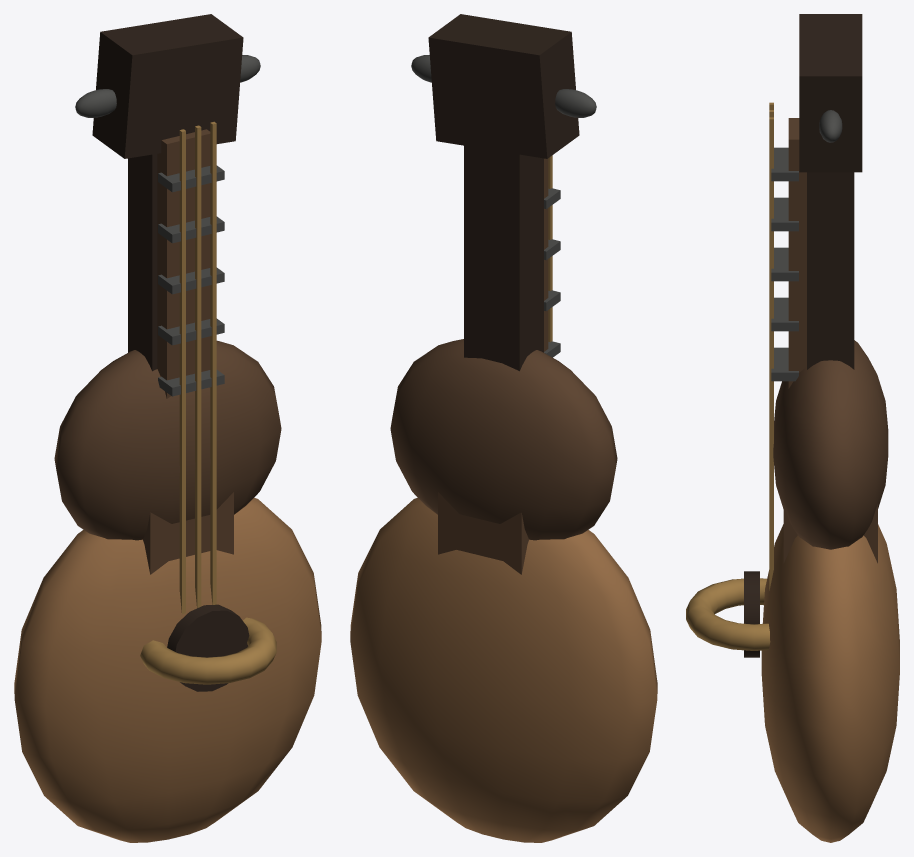
File: sk_lute.glb
3 views of the same model, side by side, from view 1: azimuth 30°, elevation 25°; view 2: azimuth 150°, elevation 25°; view 3: azimuth 270°, elevation 25° (orthographic). The views are drawn at different scales.
Parts seen in each view (by area): view 1: wood, metal; view 2: wood, metal; view 3: wood, metal.
Boxes of the visible parts, x1,y1,x2,y2 form: wood: (14,14,321,842); metal: (75,55,276,684); wood: (350,14,657,842); metal: (411,55,596,357); wood: (744,14,899,842); metal: (686,102,842,650).
Bounding box in the file's own units: 0.44 × 1.11 × 0.2714.
